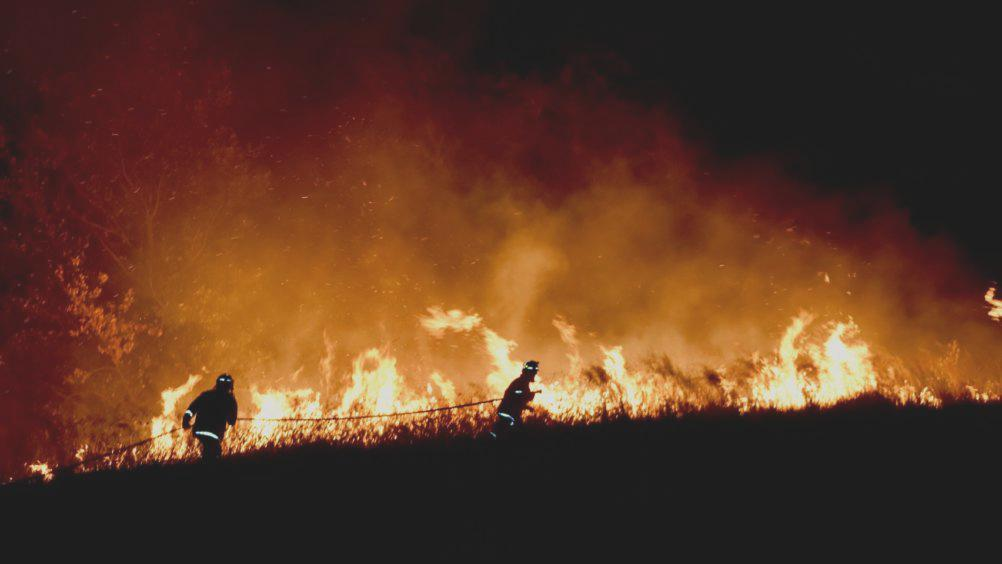Fire: (228, 304, 516, 445), (711, 287, 948, 408), (535, 286, 698, 418), (146, 369, 196, 460), (981, 283, 1002, 324), (23, 458, 57, 483), (967, 382, 998, 403), (76, 444, 92, 471)
